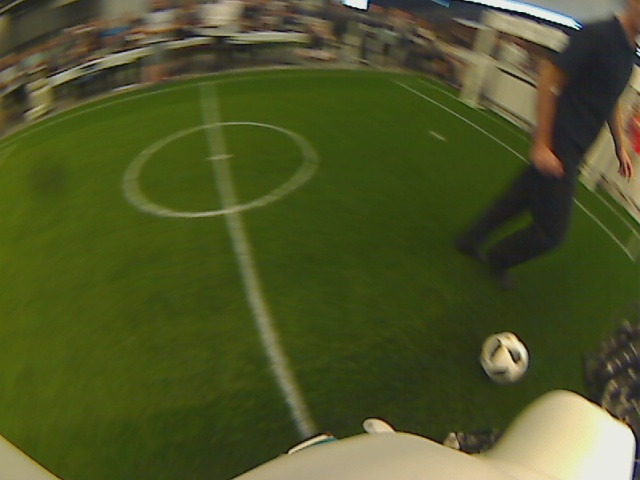ball: (478, 332, 529, 386)
